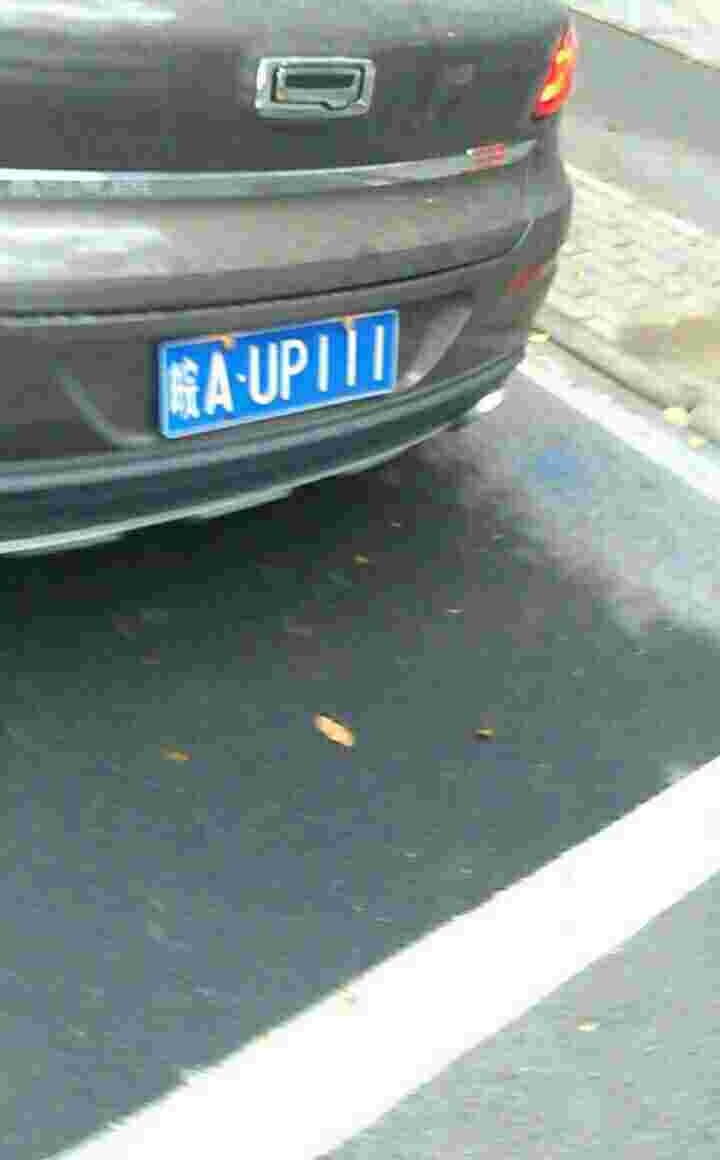license_plate: (165, 313, 407, 435)
